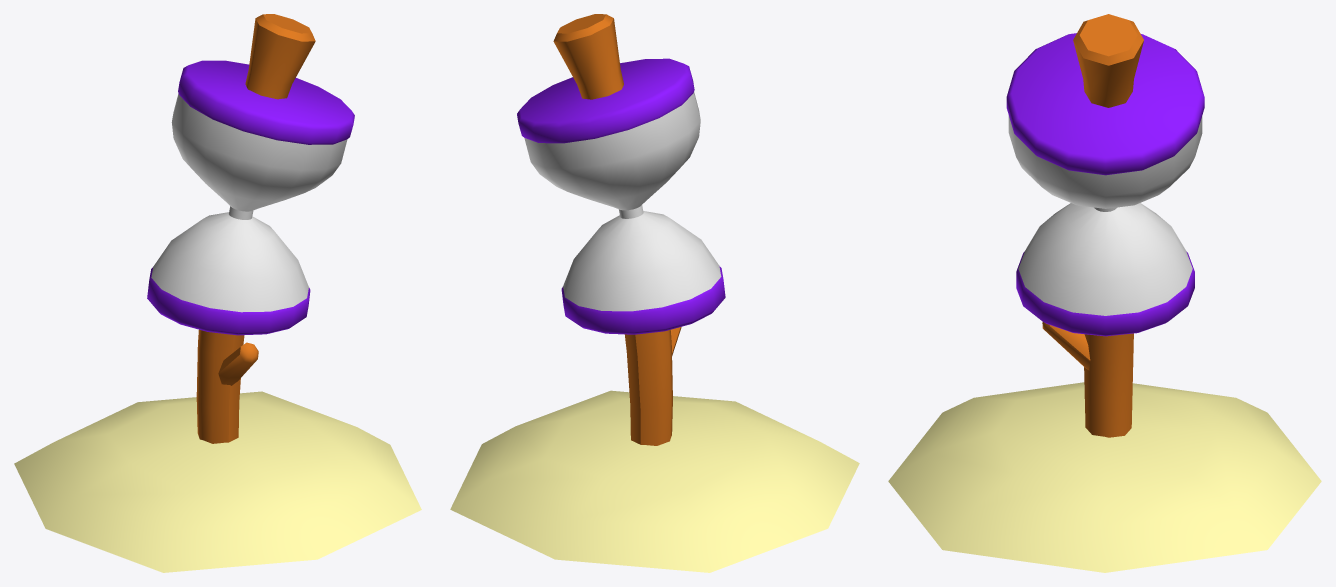
Rendered from SandGlass.fbx.
The picture shows the model from 3 angles, left to right: view 1: azimuth 30°, elevation 25°; view 2: azimuth 150°, elevation 25°; view 3: azimuth 270°, elevation 25°; orthographic projection. The views are drawn at different scales.
Parts seen in each view (by area): view 1: SandClock_LOD0, Glass_LOD0; view 2: SandClock_LOD0, Glass_LOD0; view 3: SandClock_LOD0, Glass_LOD0.
Boxes of the visible parts, box(x1,y1,x2,y2) form: SandClock_LOD0: box(14, 14, 421, 572); Glass_LOD0: box(151, 93, 347, 312); SandClock_LOD0: box(450, 14, 859, 572); Glass_LOD0: box(524, 92, 721, 311); SandClock_LOD0: box(888, 14, 1321, 572); Glass_LOD0: box(1008, 115, 1202, 315).
Size of what is drawn, in the model's own units: 0.6223 by 0.7819 by 0.6223.
